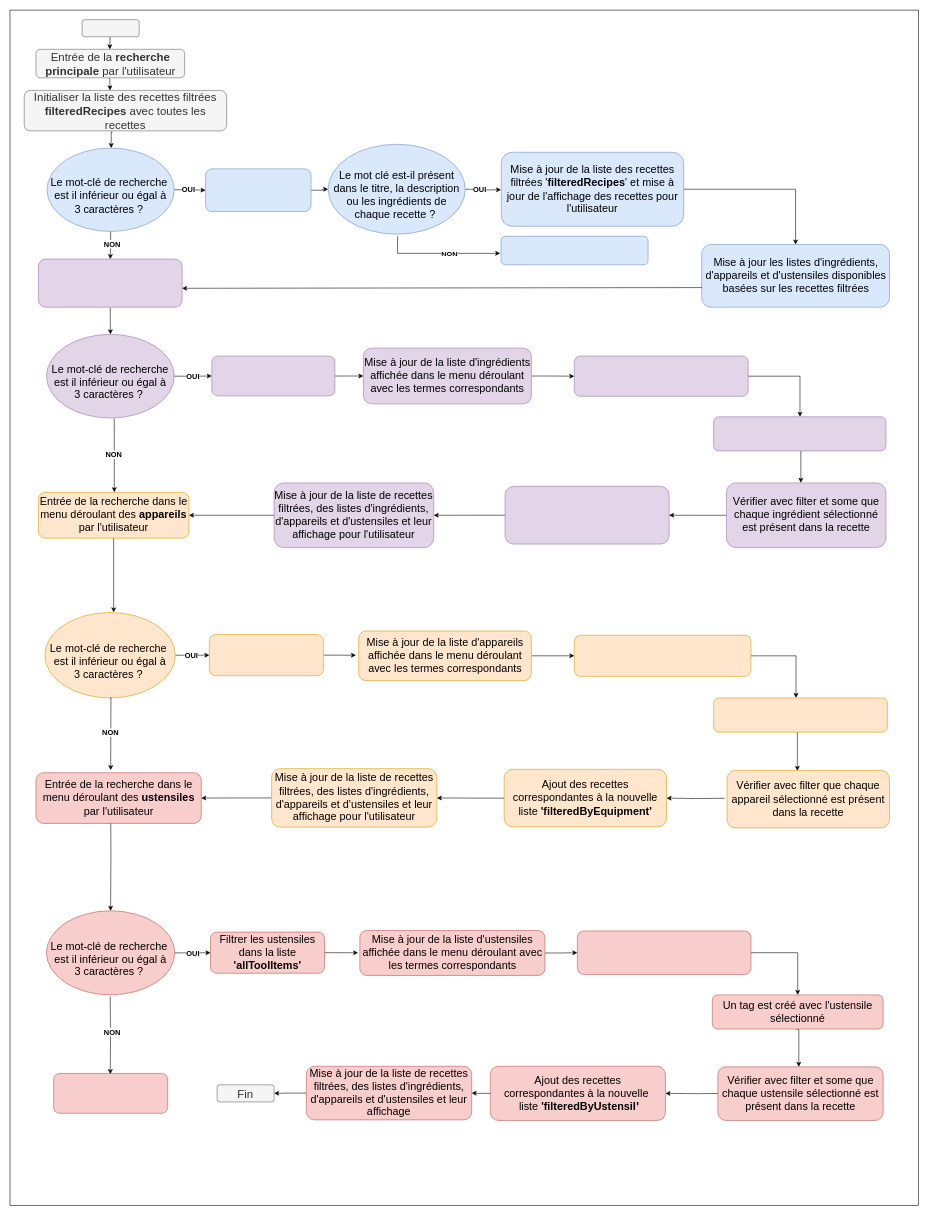
The diagram is 929 pixels wide and 1215 high, and some of its shapes have lost their labels. Each missing label, with the box of its shape:
Ajout des recettes correspondantes à la nouvelle liste 'filteredByIngredient': (505, 486, 669, 544)
Aucune recette ne s'affiche: (500, 236, 648, 265)
Début: (82, 19, 139, 37)
Entrée de la recherche dans le menu déroulant des ingrédients par l'utilisateur: (38, 258, 182, 307)
Filtrer les appareils dans la liste 'allEquipmentItems': (209, 634, 323, 676)
Filtrer les ingrédients dans la liste ' allIngredienttems ': (211, 356, 335, 396)
L'intégralité des recettes est affichée: (53, 1073, 168, 1113)
L'utilisateur sélectionne un appareil dans la liste mise à jour: (574, 635, 751, 676)
L'utilisateur sélectionne un ingrédient dans la liste mise à jour: (574, 355, 748, 396)
L'utilisateur sélectionne un ustensiles dans la liste mise à jour: (577, 930, 751, 974)
Un tag est créé avec l'appareil sélectionné: (713, 697, 887, 732)
Un tag est créé avec l'ingrédient sélectionné: (713, 416, 886, 451)
Utilisation de .filter pour filtrer les recettes: (205, 168, 311, 212)
